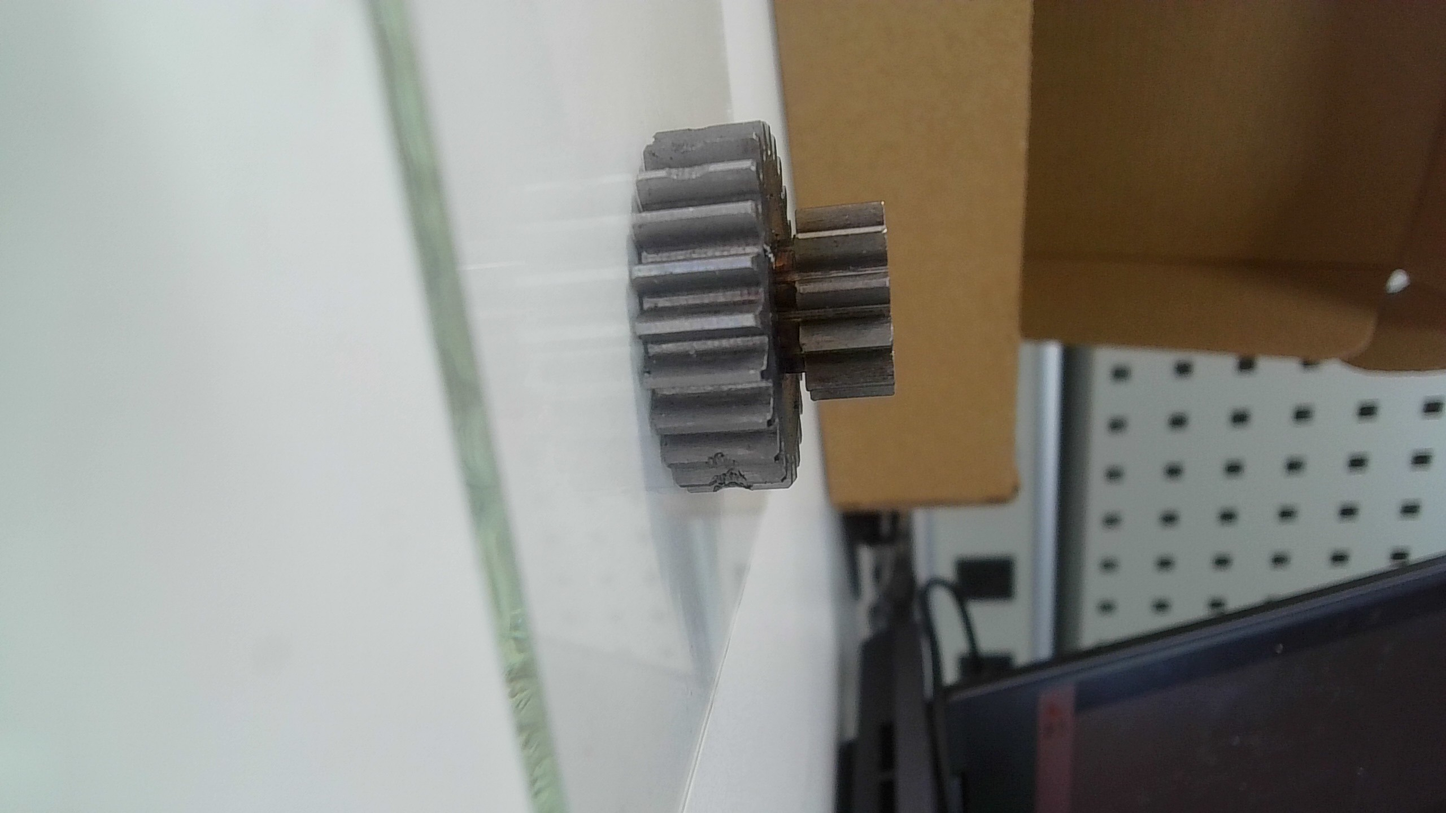gear: (638, 110, 904, 490)
